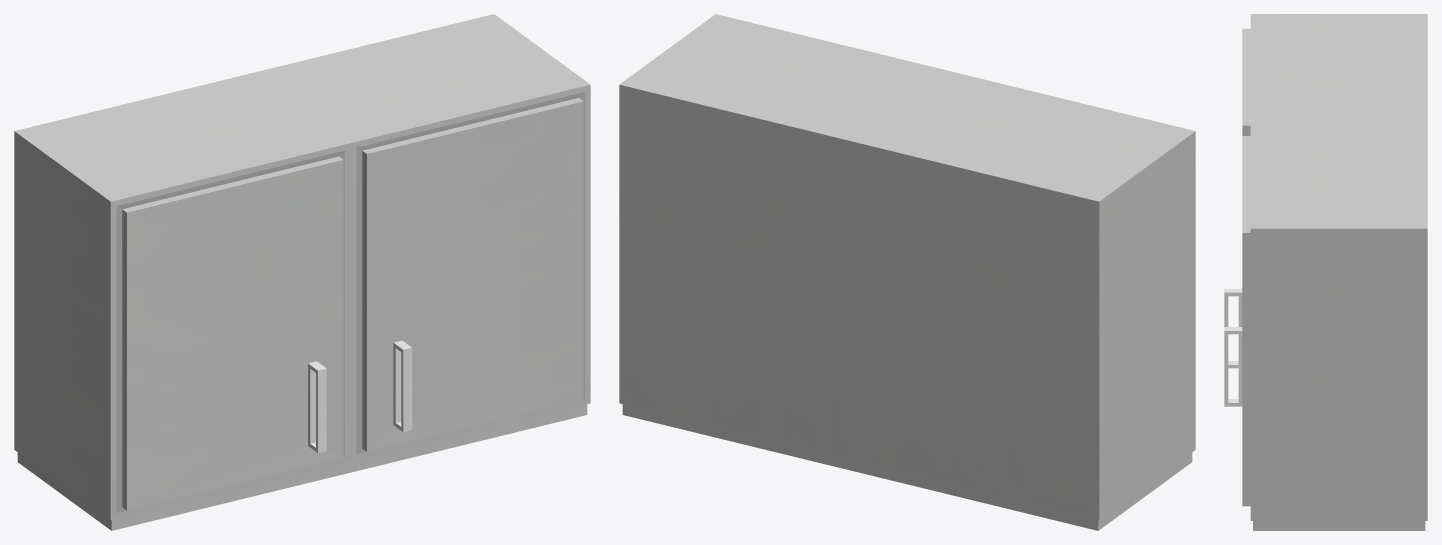
File: cupboard_top.dae
3 renders of one model, left to right at view 1: azimuth 30°, elevation 25°; view 2: azimuth 150°, elevation 25°; view 3: azimuth 270°, elevation 25°, orthographic. The views are drawn at different scales.
Parts seen in each view (by area): view 1: cupboard_top; view 2: cupboard_top; view 3: cupboard_top.
Part boxes in pixels (x1=…): cupboard_top: x1=14, y1=14, x2=590, y2=530; cupboard_top: x1=619, y1=14, x2=1195, y2=530; cupboard_top: x1=1224, y1=14, x2=1427, y2=530.
Size of the model in its own units: 0.7538 by 0.3015 by 0.4963.
